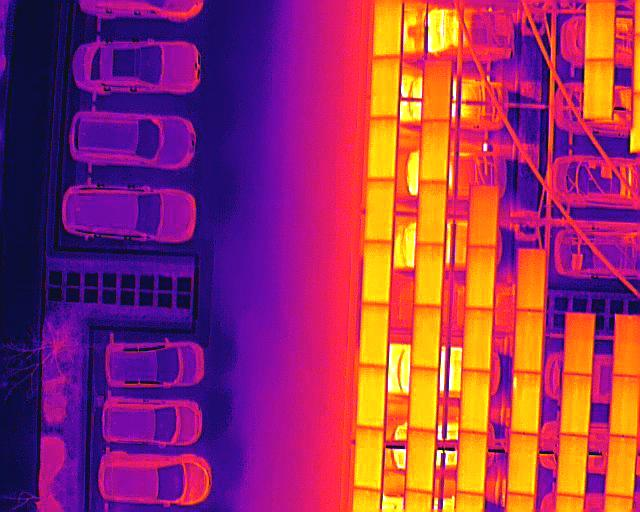Cell: (512, 372, 542, 433)
No-Anomaly: (564, 312, 595, 375), (370, 56, 401, 119), (606, 437, 637, 498), (368, 118, 398, 181), (469, 185, 499, 248), (363, 241, 392, 305), (515, 311, 545, 372), (415, 243, 444, 306), (562, 375, 592, 435), (355, 428, 384, 490), (418, 183, 447, 244), (373, 0, 404, 57), (458, 432, 486, 495), (412, 307, 441, 367), (357, 368, 386, 428), (585, 59, 614, 119), (420, 120, 448, 182), (360, 304, 388, 366), (367, 180, 395, 241), (517, 249, 545, 310), (410, 369, 438, 430), (407, 431, 435, 492), (509, 434, 537, 495), (424, 60, 452, 121), (468, 247, 495, 310), (587, 1, 616, 59), (465, 309, 492, 371), (461, 373, 489, 432), (559, 437, 587, 496), (612, 376, 638, 437)
